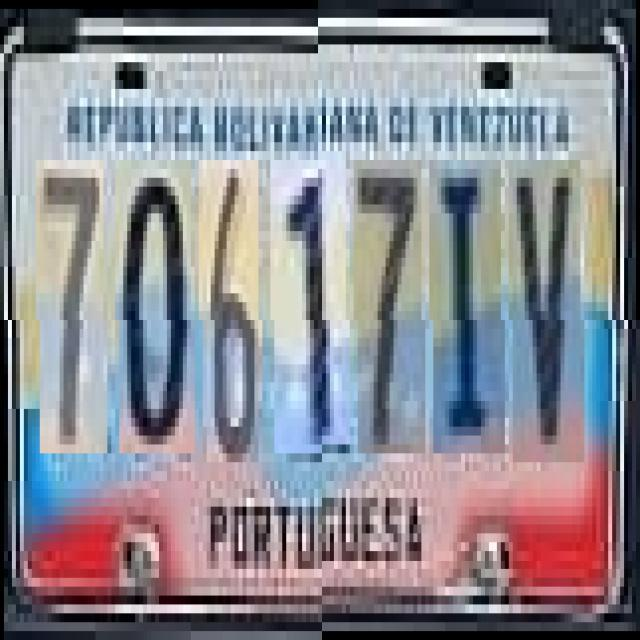1: (274, 160, 350, 453)
6: (202, 160, 262, 462)
7: (358, 168, 426, 462), (40, 160, 108, 453)
I: (433, 168, 505, 462)
O: (120, 160, 194, 453)
V: (512, 169, 584, 471)
